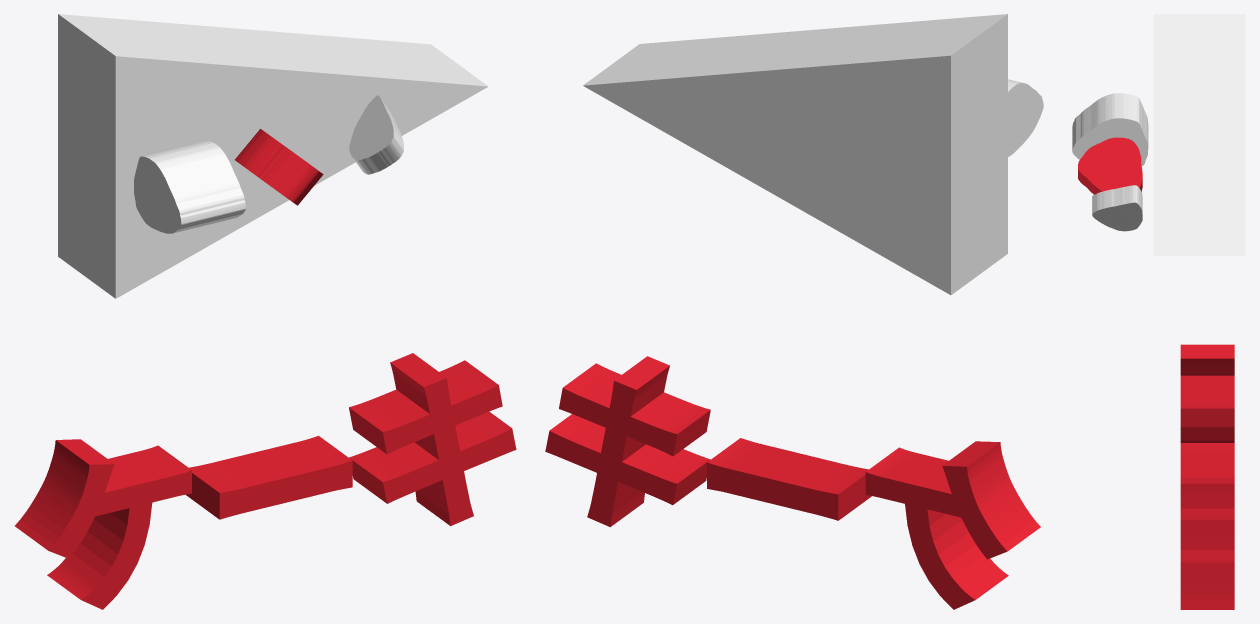
File: tinker.obj
The picture shows the model from 3 angles, left to right: view 1: azimuth 30°, elevation 25°; view 2: azimuth 150°, elevation 25°; view 3: azimuth 270°, elevation 25°; orthographic projection. The views are drawn at different scales.
Parts seen in each view (by area): view 1: group_0_16448250, group_0_15277357; view 2: group_0_16448250, group_0_15277357; view 3: group_0_16448250, group_0_15277357.
Part boxes in pixels (box(x1,y1,x2,y2)): group_0_16448250: box(58, 14, 488, 298); group_0_15277357: box(15, 129, 516, 609); group_0_16448250: box(583, 14, 1043, 294); group_0_15277357: box(545, 356, 1040, 609); group_0_16448250: box(1072, 14, 1245, 255); group_0_15277357: box(1078, 137, 1234, 609).
Size of the model in its own units: 79.7 by 92.46 by 32.
